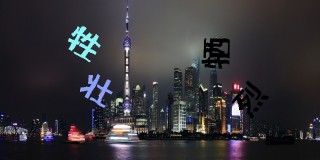壮: (76, 72, 114, 108)
烈: (233, 80, 268, 113)
牲: (67, 24, 101, 63)
牺: (199, 36, 233, 68)
